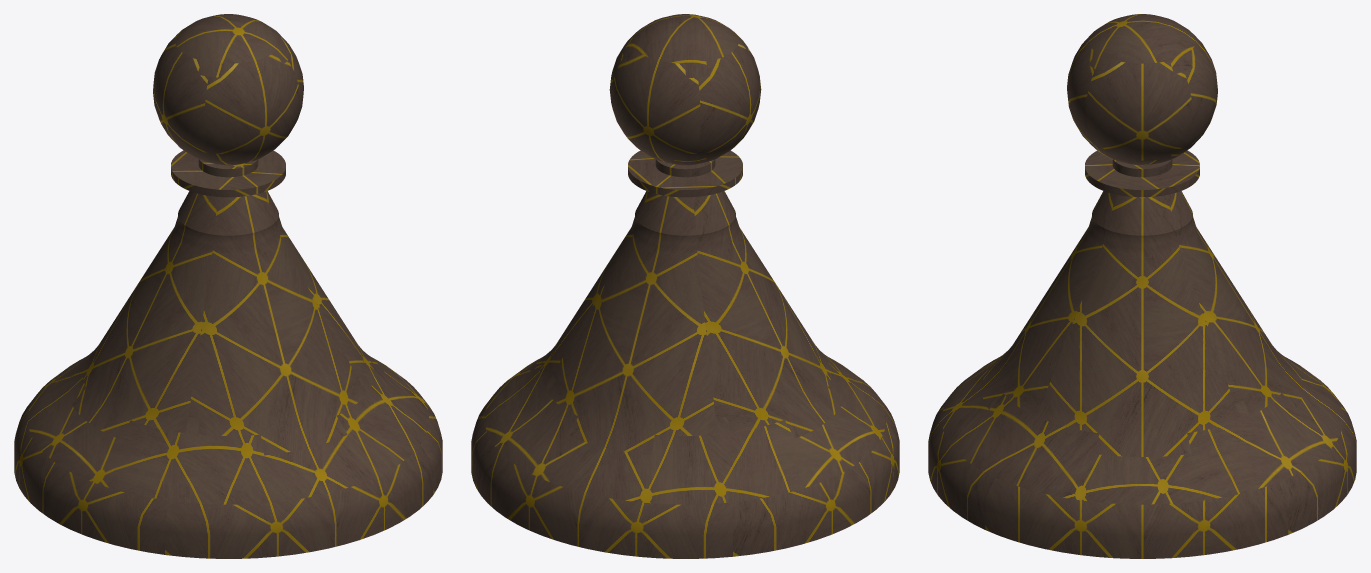
The model's file is ALL.gltf.
The picture shows the model from 3 angles, left to right: view 1: azimuth 30°, elevation 25°; view 2: azimuth 150°, elevation 25°; view 3: azimuth 270°, elevation 25°; orthographic projection.
Visible parts, largest first — view 1: PawnBlack.001; view 2: PawnBlack.001; view 3: PawnBlack.001.
Boxes of the visible parts, x1=… form: PawnBlack.001: x1=14, y1=14, x2=442, y2=558; PawnBlack.001: x1=471, y1=14, x2=899, y2=558; PawnBlack.001: x1=928, y1=14, x2=1356, y2=558.
Bounding box in the file's own units: 0.0213 × 0.0245 × 0.0213.
Materials: 1 (1 with a texture image).
